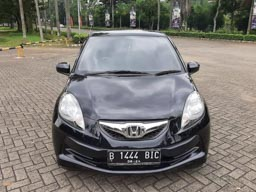plat: (109, 150, 159, 159)
